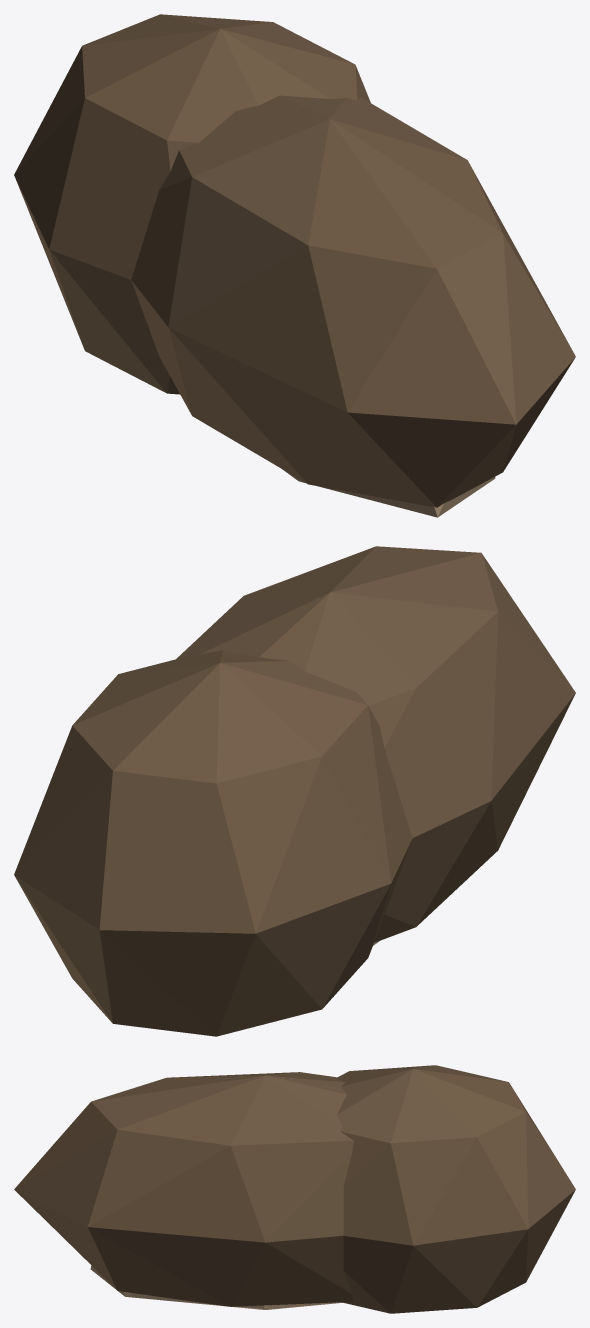
The model's file is rat_0_body.glb.
3 views of the same model, one above another, from view 1: azimuth 30°, elevation 25°; view 2: azimuth 150°, elevation 25°; view 3: azimuth 270°, elevation 25° (orthographic). The views are drawn at different scales.
Visible parts, largest first — view 1: rat_0_body; view 2: rat_0_body; view 3: rat_0_body.
Boxes of the visible parts, x1=… form: rat_0_body: x1=14, y1=14, x2=575, y2=517; rat_0_body: x1=14, y1=546, x2=575, y2=1036; rat_0_body: x1=14, y1=1065, x2=575, y2=1313.
Bounding box in the file's own units: 0.18 × 0.18 × 0.38.
